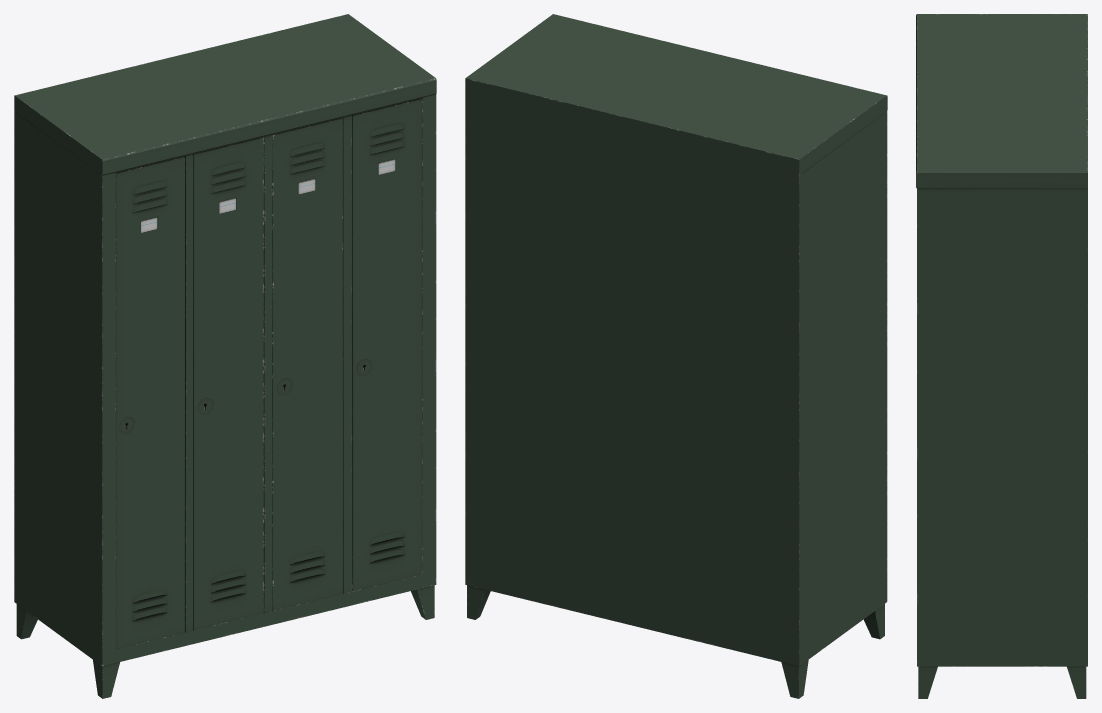
The model's file is lockerroom_locker_0001.fbx.
3 renders of one model, left to right at view 1: azimuth 30°, elevation 25°; view 2: azimuth 150°, elevation 25°; view 3: azimuth 270°, elevation 25°, orthographic. The views are drawn at different scales.
Visible parts, largest first — view 1: lockerroom_locker_0001_1; view 2: lockerroom_locker_0001_1; view 3: lockerroom_locker_0001_1.
Boxes of the visible parts, x1,y1,x2,y2 form: lockerroom_locker_0001_1: [14, 14, 436, 698]; lockerroom_locker_0001_1: [465, 14, 887, 698]; lockerroom_locker_0001_1: [916, 14, 1087, 698].
Bounding box in the file's own units: 1.28 × 1.98 × 0.5867.
